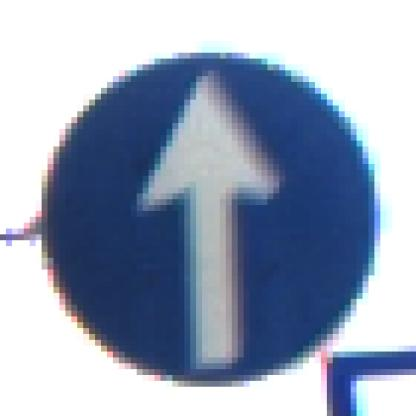AheadOnly: (37, 42, 381, 382)
